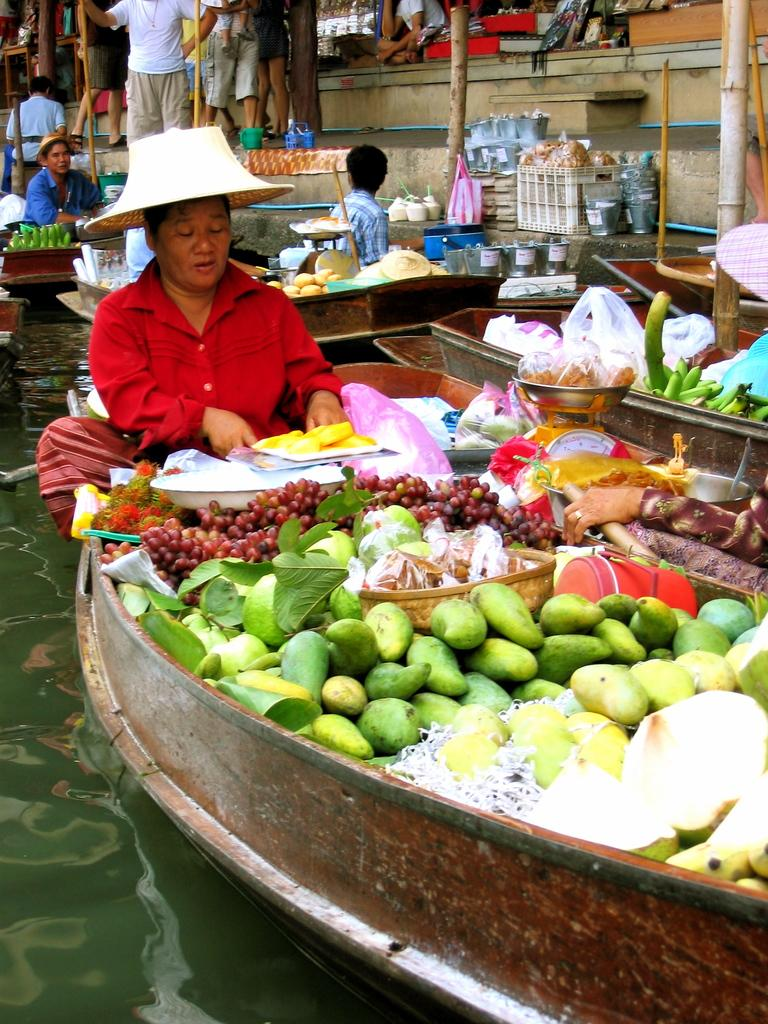Hat: (88, 124, 277, 236), (36, 127, 64, 160)
